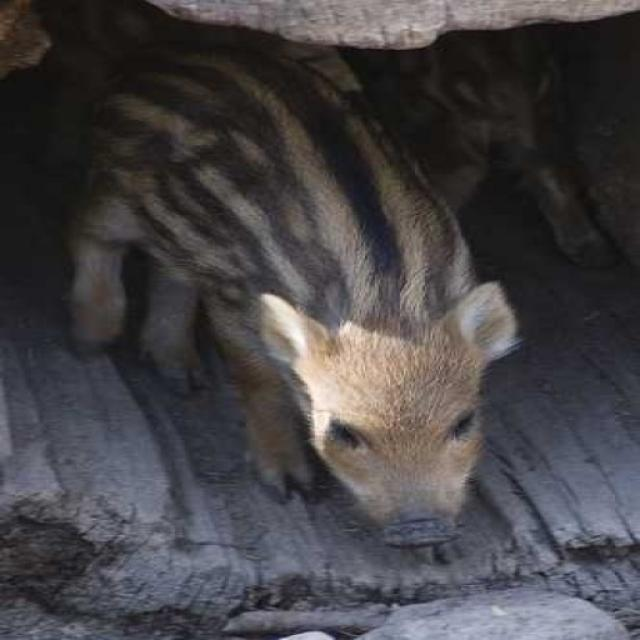pig: (88, 45, 513, 566), (427, 14, 538, 161)
